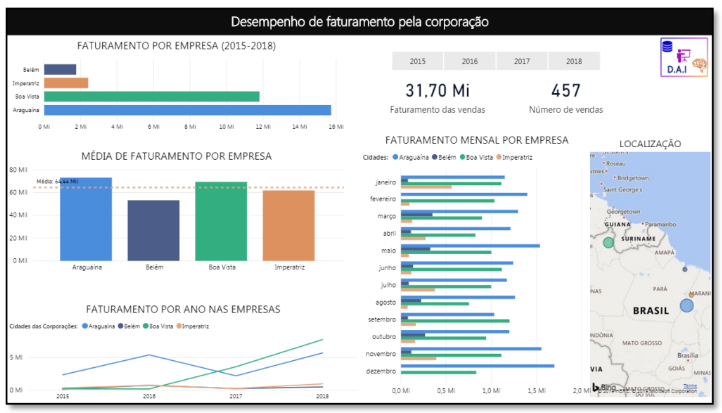

What the dashboard file says about the page in this screenshot:
{"tool":"powerbi","page":{"name":"Faturamento","canvas":[1280,720],"ordinal":0},"visuals":[{"type":"textbox","box":[0,0,1280,47.7],"z":0},{"type":"map","title":"LOCALIZAÇÃO","fields":{"Category":["Faturamento.DIM LOJA.CIDADE"],"Size":["Sum(Faturamento.VALORVENDA)"]},"box":[1051.5,231.6,229.4,477.4],"z":10},{"type":"image","box":[1173.6,10,107.5,154],"z":2000},{"type":"card","fields":{"Values":["Sum(Faturamento.FATO VENDA Count)"]},"box":[900,117.4,227.2,75.7],"z":3000},{"type":"clusteredBarChart","title":"FATURAMENTO MENSAL POR EMPRESA","fields":{"Y":["Sum(Faturamento.VALORVENDA)"],"Series":["Faturamento.DIM LOJA.CIDADE"],"Category":["Faturamento.DIM TEMPO.DATA.Variation.Hierarquia de datas.Mês","Faturamento.DIM TEMPO.ANO"]},"box":[639.9,223.9,423.7,486.2],"z":4000},{"type":"clusteredColumnChart","title":"MÉDIA DE FATURAMENTO POR EMPRESA","fields":{"Y":["Avg(Faturamento.VALORVENDA)"],"Category":["Faturamento.DIM LOJA.CIDADE"]},"box":[0,252.4,615.7,233.8],"z":5000},{"type":"card","fields":{"Values":["Sum(Faturamento.VALORVENDA)"]},"box":[672.8,118.5,216.2,74.6],"z":6000},{"type":"clusteredBarChart","title":"FATURAMENTO POR EMPRESA (2015-2018)","fields":{"Category":["Faturamento.DIM LOJA.CIDADE"],"Y":["Sum(Faturamento.VALORVENDA)"]},"box":[0,52.7,615.7,178.9],"z":7000},{"type":"lineChart","title":"FATURAMENTO POR ANO NAS EMPRESAS","fields":{"Category":["Faturamento.DIM TEMPO.ANO"],"Y":["Sum(Faturamento.VALORVENDA)"],"Series":["Faturamento.DIM LOJA.CIDADE"]},"box":[0,530.1,639.9,189.9],"z":8000},{"type":"slicer","fields":{"Values":["Faturamento.DIM TEMPO.ANO"]},"box":[672.8,71.3,425.9,47.2],"z":9000}]}

Visuals, with their boxes in screenshot pixels (x1, y1, x2, y2), scaled from the page's 1280x720 canvas onto the 722x413 screenshot:
textbox: x1=0 y1=0 x2=721 y2=27
"LOCALIZAÇÃO" map: x1=593 y1=133 x2=721 y2=407
image: x1=662 y1=6 x2=721 y2=94
card - Sum(Faturamento.FATO VENDA Count): x1=508 y1=67 x2=636 y2=111
"FATURAMENTO MENSAL POR EMPRESA" clusteredBarChart: x1=361 y1=128 x2=600 y2=407
"MÉDIA DE FATURAMENTO POR EMPRESA" clusteredColumnChart: x1=0 y1=145 x2=347 y2=279
card - Sum(Faturamento.VALORVENDA): x1=380 y1=68 x2=501 y2=111
"FATURAMENTO POR EMPRESA (2015-2018)" clusteredBarChart: x1=0 y1=30 x2=347 y2=133
"FATURAMENTO POR ANO NAS EMPRESAS" lineChart: x1=0 y1=304 x2=361 y2=412
slicer - Faturamento.DIM TEMPO.ANO: x1=380 y1=41 x2=620 y2=68
